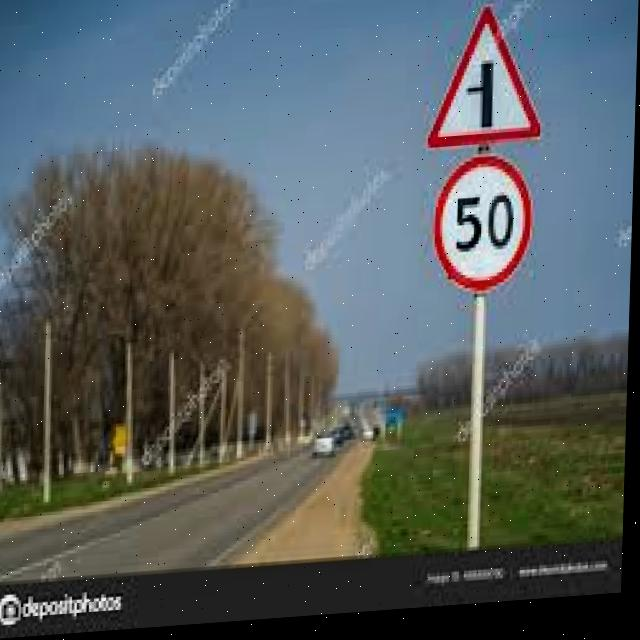Speed limit 50: (432, 156, 539, 306)
